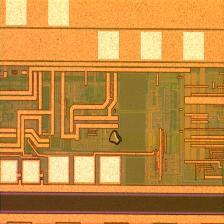COATING BAD: (106, 129, 126, 149)
